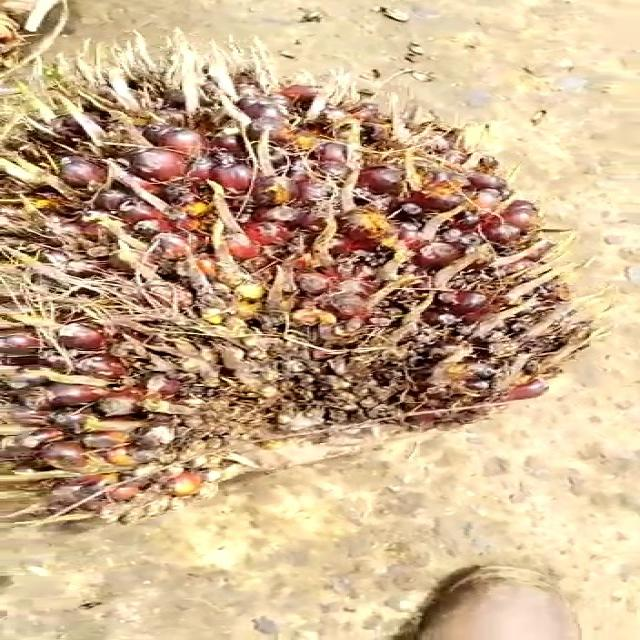palm oil: (0, 38, 612, 524)
